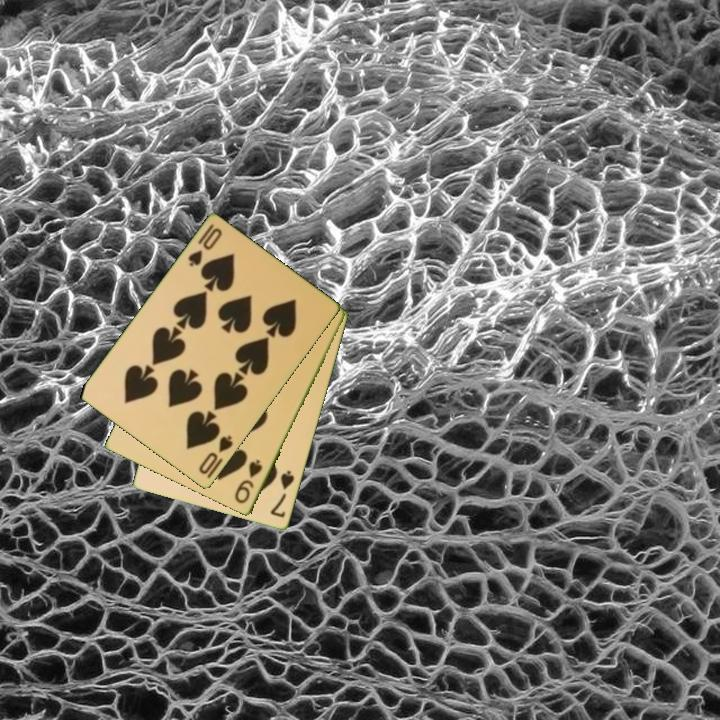10s: (185, 221, 225, 270), (195, 432, 236, 478)
7s: (267, 467, 298, 521)
9s: (231, 456, 266, 507)
